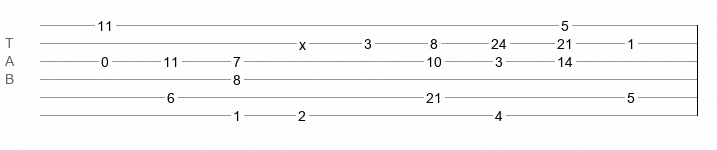0: (101, 54, 109, 64)
1: (233, 108, 241, 118), (627, 36, 635, 46)
10: (426, 54, 442, 64)
11: (97, 18, 113, 28), (163, 54, 179, 64)
14: (557, 54, 573, 64)
2: (298, 108, 306, 118)
21: (426, 90, 442, 100), (557, 36, 573, 46)
24: (491, 36, 507, 46)
3: (364, 36, 372, 46), (495, 54, 503, 64)
4: (495, 108, 503, 118)
5: (561, 18, 569, 28), (627, 90, 635, 100)
6: (167, 90, 175, 100)
7: (233, 54, 241, 64)
8: (233, 72, 241, 82), (430, 36, 438, 46)
x: (299, 37, 306, 45)
